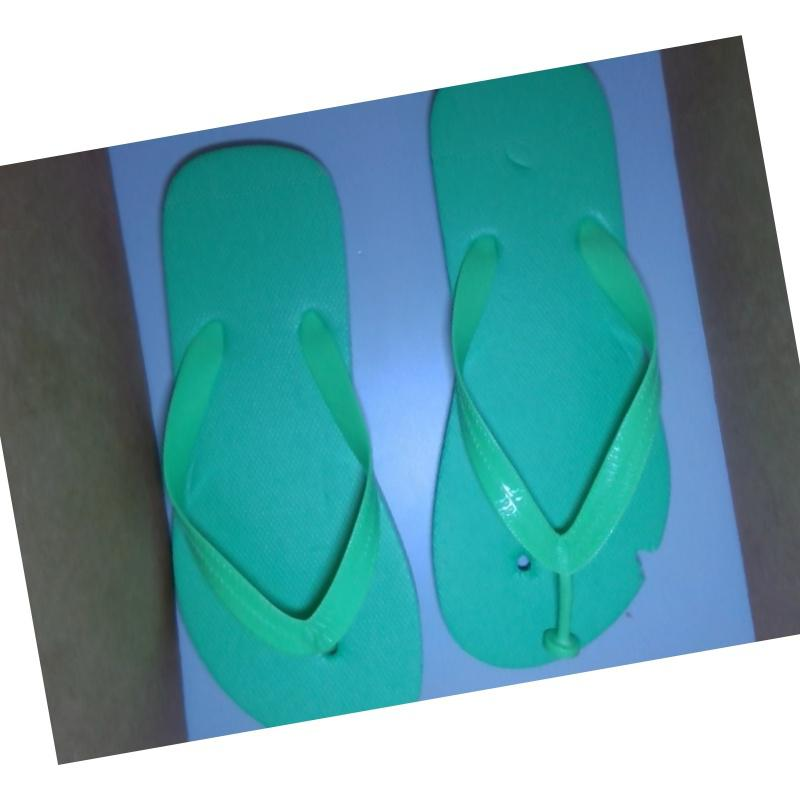chipped: (622, 531, 673, 596)
detached: (531, 605, 592, 667)
